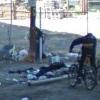Bicycle: (65, 55, 99, 93)
